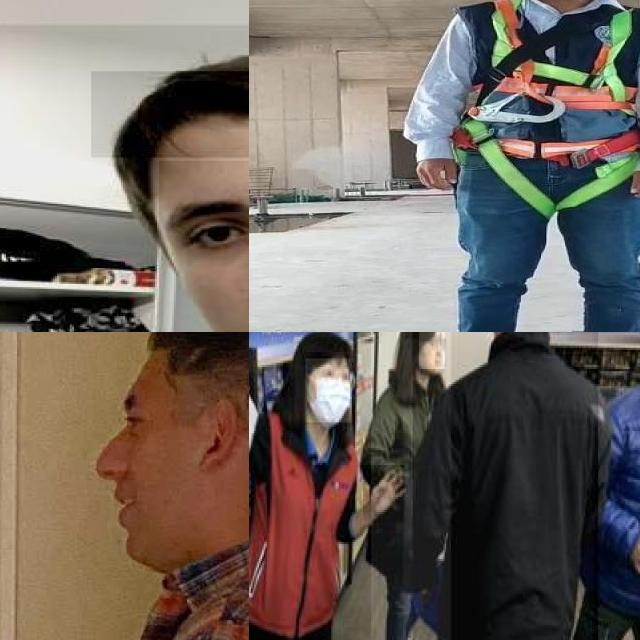No_Ear-Protection: (197, 395, 238, 474)
No_Glasses: (149, 156, 249, 250), (114, 390, 168, 450)
face_mask: (306, 358, 354, 424)
face_nomask: (159, 161, 249, 332), (419, 332, 446, 371)
hand_noglove: (405, 142, 466, 203), (363, 465, 405, 523), (630, 148, 640, 219)
head_nohelmet: (90, 71, 249, 157), (299, 332, 352, 366), (404, 332, 441, 341)
person: (400, 0, 640, 332), (0, 24, 249, 332), (403, 332, 595, 640), (413, 332, 600, 640), (371, 332, 451, 640)
